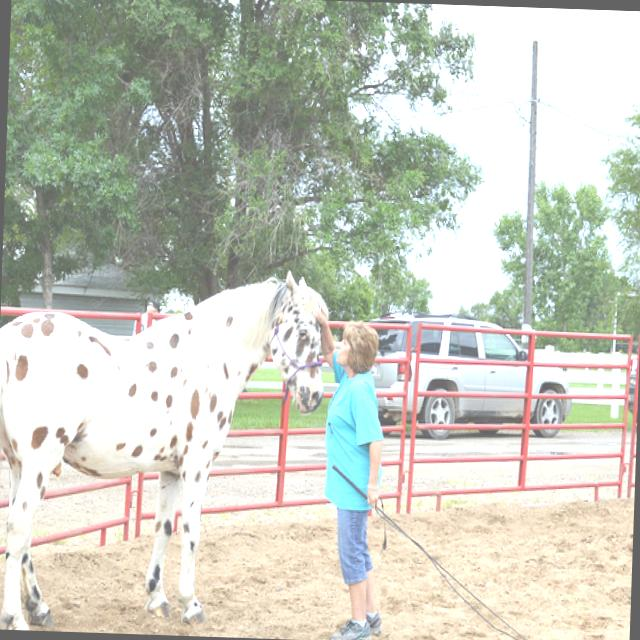Vehicle: (362, 313, 640, 450), (625, 349, 639, 429)
